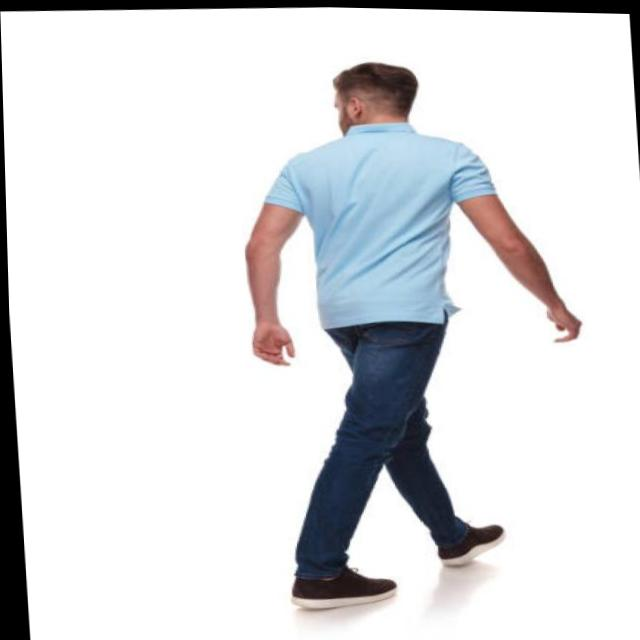no helmet: (340, 58, 422, 127)
